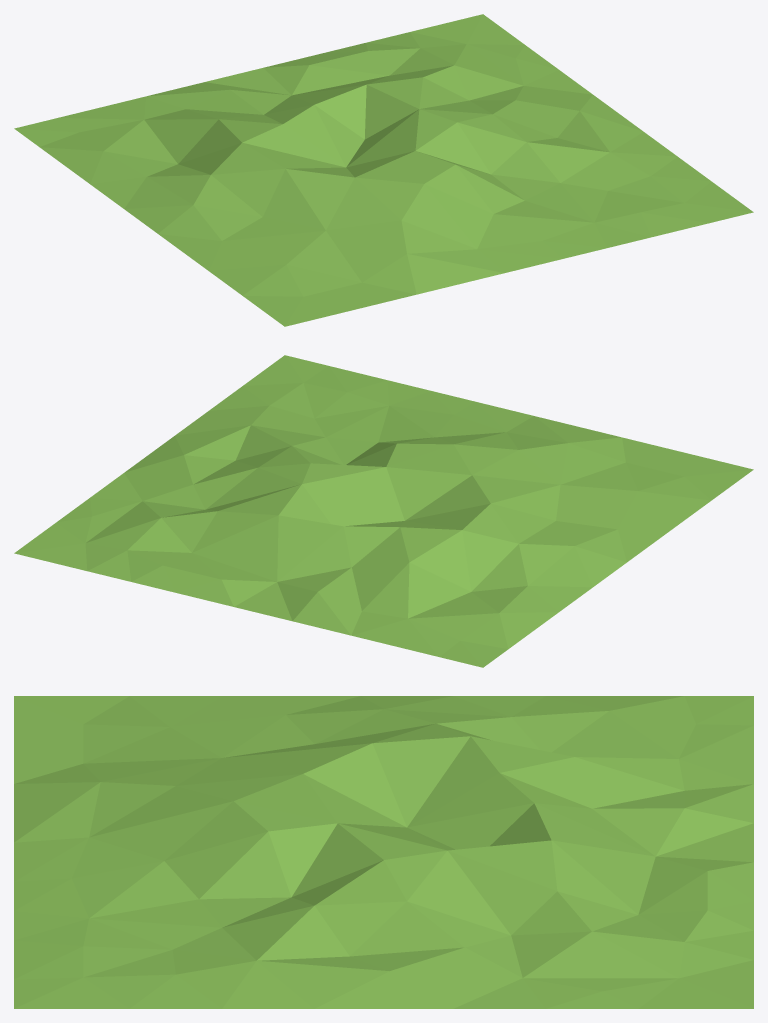
File: MT_Terrain_S_a_16_LOD.fbx
3 views of the same model, one above another, from view 1: azimuth 30°, elevation 25°; view 2: azimuth 150°, elevation 25°; view 3: azimuth 270°, elevation 25° (orthographic). The views are drawn at different scales.
Parts seen in each view (by area): view 1: MT_Terrain_S_a_16_LOD0; view 2: MT_Terrain_S_a_16_LOD0; view 3: MT_Terrain_S_a_16_LOD0.
Part boxes in pixels (<box>): MT_Terrain_S_a_16_LOD0: <box>14,14,753,326</box>; MT_Terrain_S_a_16_LOD0: <box>14,355,753,667</box>; MT_Terrain_S_a_16_LOD0: <box>14,696,753,1008</box>.
Size of what is drawn, in the model's own units: 2500 by 167 by 2500.
